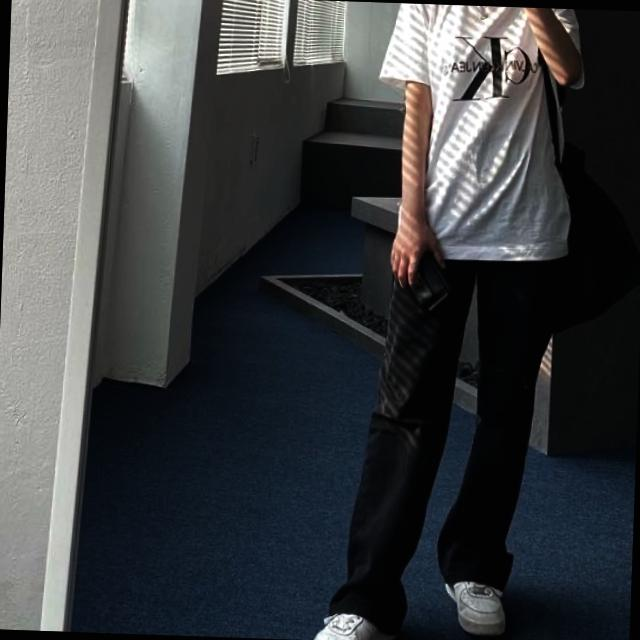denimpants: (330, 238, 564, 640)
shortsleeve: (372, 2, 586, 263)
